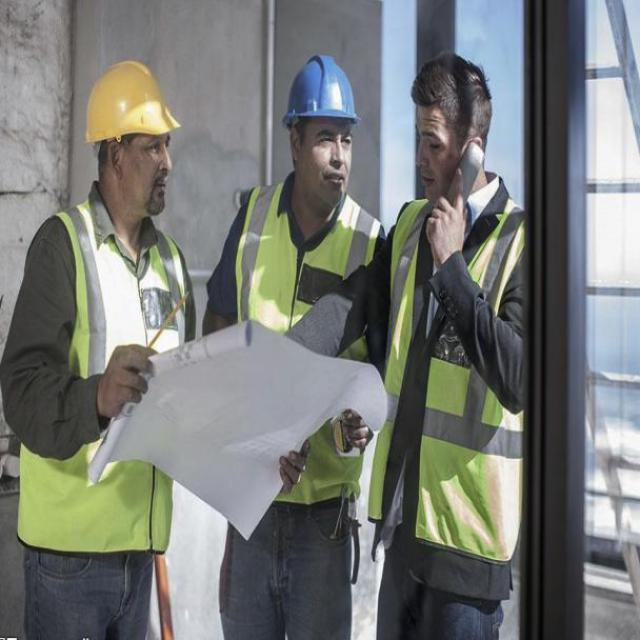helmet: (82, 48, 182, 216), (277, 46, 364, 213)
vest: (55, 189, 188, 556), (381, 201, 510, 560), (230, 186, 373, 319)
